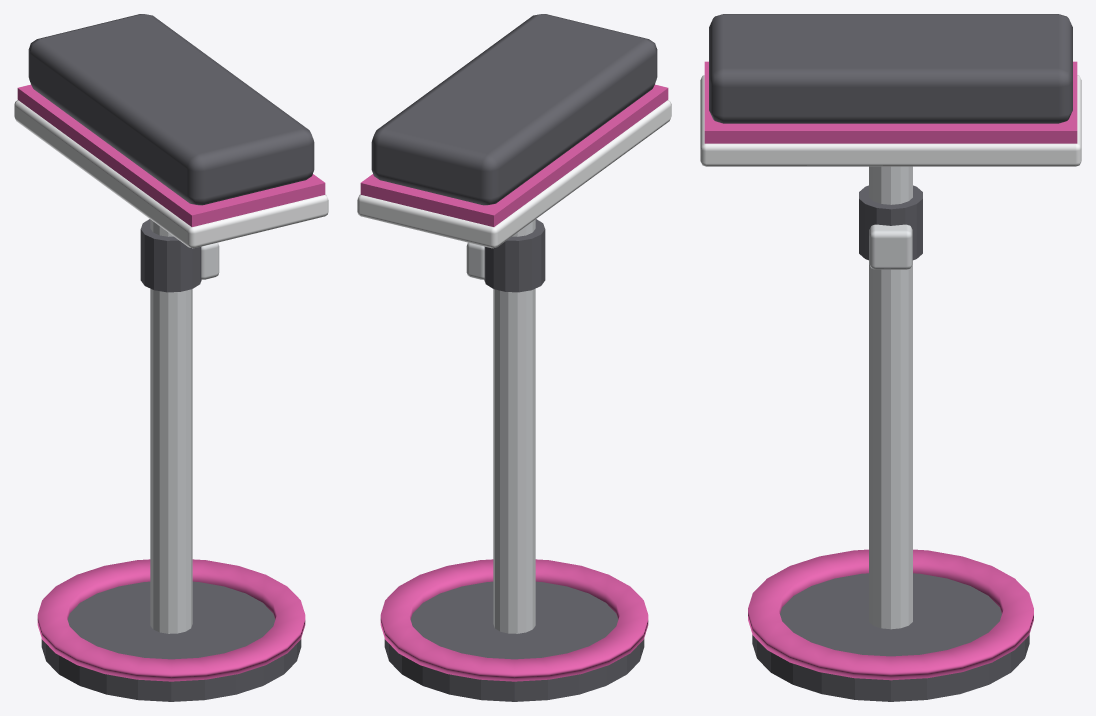
The model's file is tattoo-and-piercing-studio-armrest-on-stand-1872d4a3__34525.glb.
The picture shows the model from 3 angles, left to right: view 1: azimuth 30°, elevation 25°; view 2: azimuth 150°, elevation 25°; view 3: azimuth 270°, elevation 25°; orthographic projection. The views are drawn at different scales.
Parts seen in each view (by area): view 1: armrest-on-stand; view 2: armrest-on-stand; view 3: armrest-on-stand.
Part boxes in pixels (box(x1,y1,x2,y2)): armrest-on-stand: box(14, 14, 328, 701); armrest-on-stand: box(357, 14, 671, 701); armrest-on-stand: box(700, 14, 1081, 701).
Bounding box in the file's own units: 0.33 × 0.766 × 0.44.
